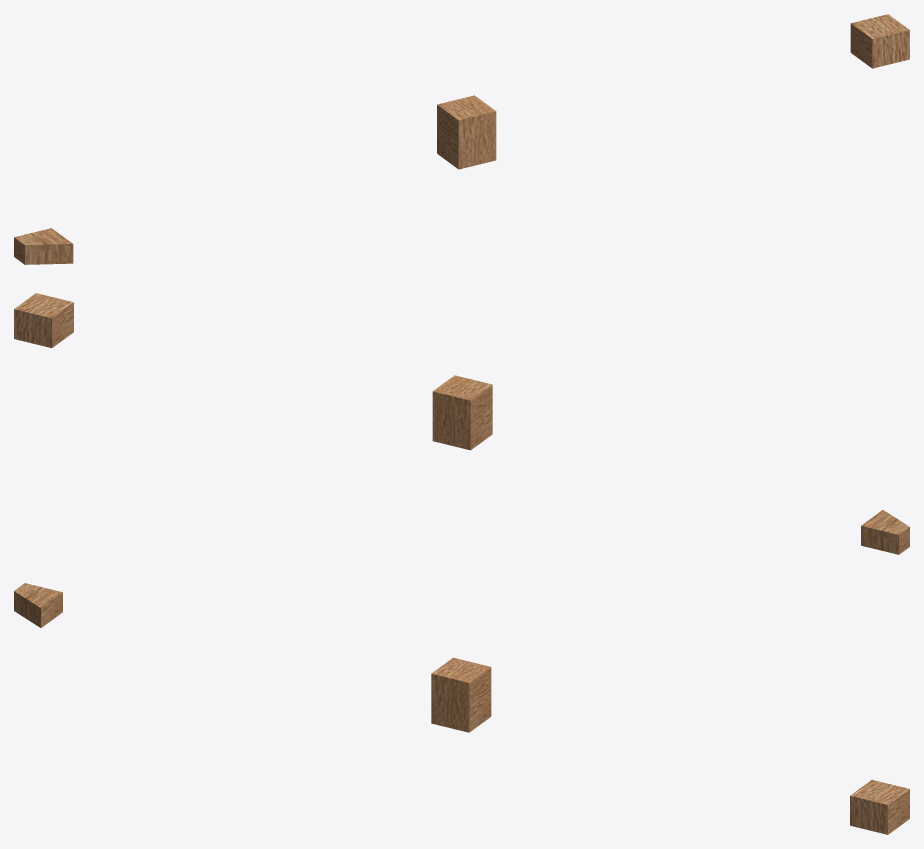
The model's file is 26488_deepcad-end2end.glb.
3 renders of one model, top to bottom at view 1: azimuth 30°, elevation 25°; view 2: azimuth 150°, elevation 25°; view 3: azimuth 330°, elevation 25°, orthographic.
Parts seen in each view (by area): view 1: test_cmd_26488_pred; view 2: test_cmd_26488_pred; view 3: test_cmd_26488_pred.
Boxes of the visible parts, x1,y1,x2,y2 form: test_cmd_26488_pred: (14,14,909,264); test_cmd_26488_pred: (14,293,909,554); test_cmd_26488_pred: (14,583,909,834).
Size of the model in its own units: 1 by 0.0538 by 0.043.
1 material, 1 textured.
